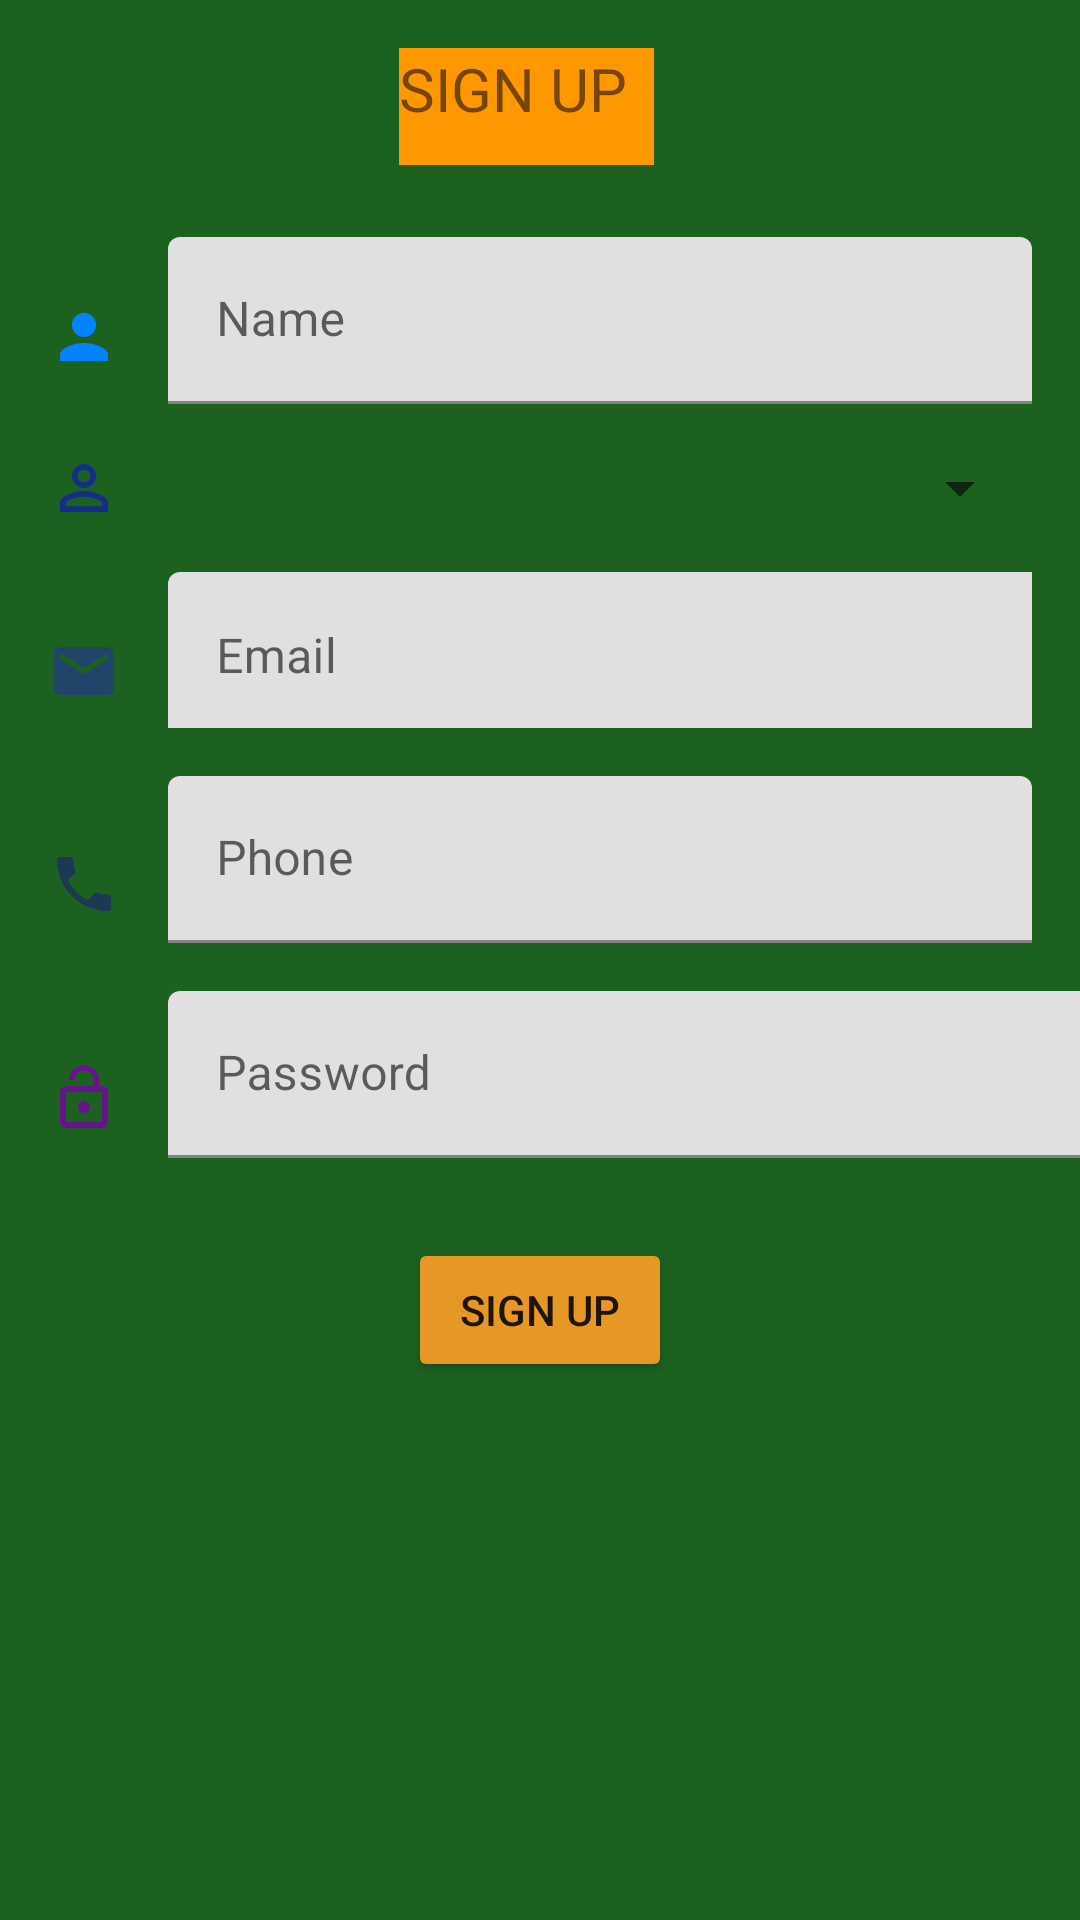

Icon click points for this 1080 × 1920 phone screenshot, format (x=x, y=y):
lock open: (x=84, y=1096)
person: (x=84, y=337), (x=84, y=488)
